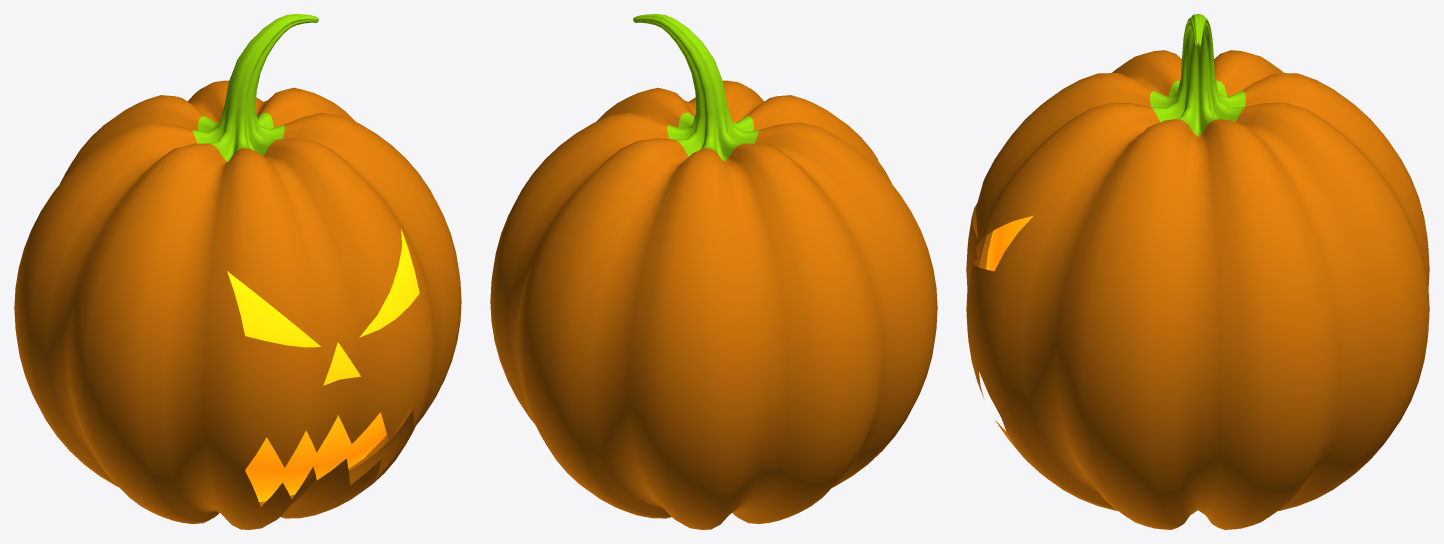
File: pumpkin1.glb
The picture shows the model from 3 angles, left to right: view 1: azimuth 30°, elevation 25°; view 2: azimuth 150°, elevation 25°; view 3: azimuth 270°, elevation 25°; orthographic projection. The views are drawn at different scales.
Visible parts, largest first — view 1: Sphere, Sphere.001; view 2: Sphere; view 3: Sphere, Sphere.001.
Part boxes in pixels (<box>): Sphere: <box>14,14,461,529</box>; Sphere.001: <box>227,229,419,501</box>; Sphere: <box>490,14,937,529</box>; Sphere: <box>966,14,1429,529</box>; Sphere.001: <box>986,215,1033,271</box>.
Size of the model in its own units: 0.603 by 0.7336 by 0.603.
